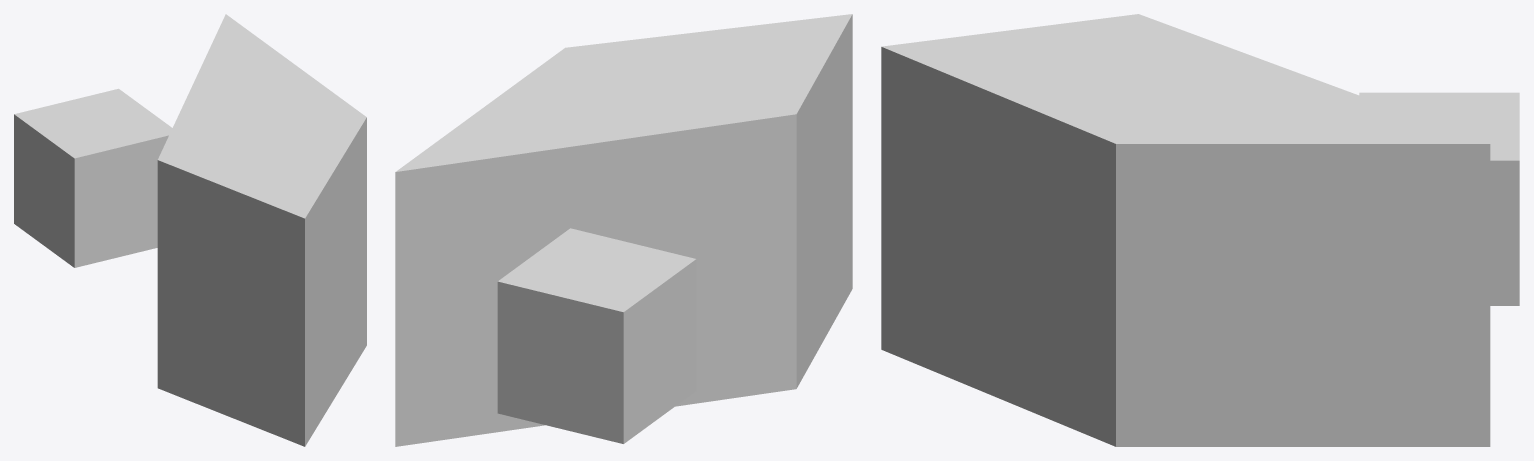
Rendered from Player_Right_Body.obj.
3 views of the same model, side by side, from view 1: azimuth 30°, elevation 25°; view 2: azimuth 150°, elevation 25°; view 3: azimuth 270°, elevation 25° (orthographic). The views are drawn at different scales.
Parts seen in each view (by area): view 1: 立方体.003; view 2: 立方体.003; view 3: 立方体.003.
Part boxes in pixels (x1=…): 立方体.003: x1=14, y1=14, x2=366, y2=446; 立方体.003: x1=395, y1=14, x2=852, y2=446; 立方体.003: x1=881, y1=14, x2=1519, y2=446.
Bounding box in the file's own units: 0.92 × 1 × 1.91.
1 material, 1 textured.
